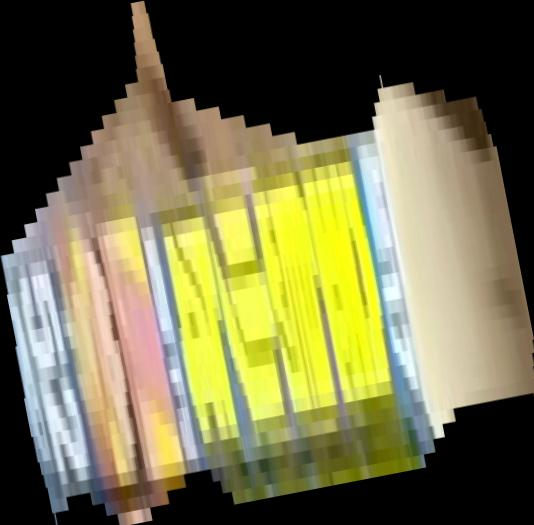flat: (1, 1, 534, 525)
